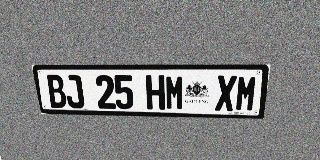2: (95, 75, 116, 109)
5: (114, 75, 134, 109)
B: (45, 75, 68, 108)
H: (146, 75, 165, 110)
J: (63, 75, 85, 108)
M: (235, 75, 258, 111), (165, 75, 184, 110)
X: (215, 75, 237, 111)
